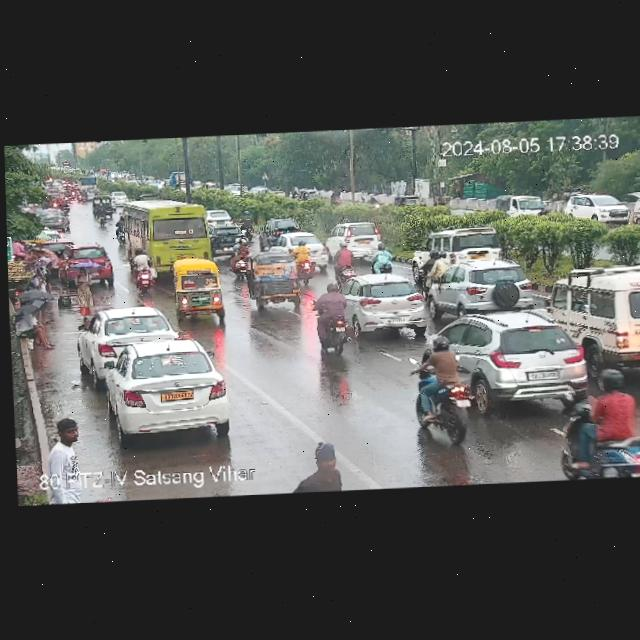bus: (114, 194, 221, 270)
car: (424, 308, 589, 410), (99, 341, 228, 440), (555, 262, 640, 369), (423, 256, 534, 315), (77, 304, 176, 366), (340, 271, 432, 333), (164, 258, 226, 322), (245, 249, 309, 311), (419, 224, 505, 262), (561, 192, 634, 232), (64, 245, 116, 286), (278, 229, 325, 267), (336, 222, 384, 258), (260, 217, 301, 245), (40, 209, 67, 230), (92, 196, 112, 214)
motorcycle: (556, 369, 640, 475), (415, 331, 470, 439), (309, 279, 355, 356), (366, 239, 414, 274), (131, 251, 160, 293), (331, 241, 356, 276), (227, 246, 251, 279), (295, 239, 313, 280), (54, 197, 74, 215), (95, 201, 106, 227)
person: (286, 439, 357, 493), (43, 416, 83, 468), (9, 311, 48, 348), (32, 266, 51, 322), (77, 263, 95, 316), (34, 249, 49, 263)
truck: (79, 174, 99, 191)
